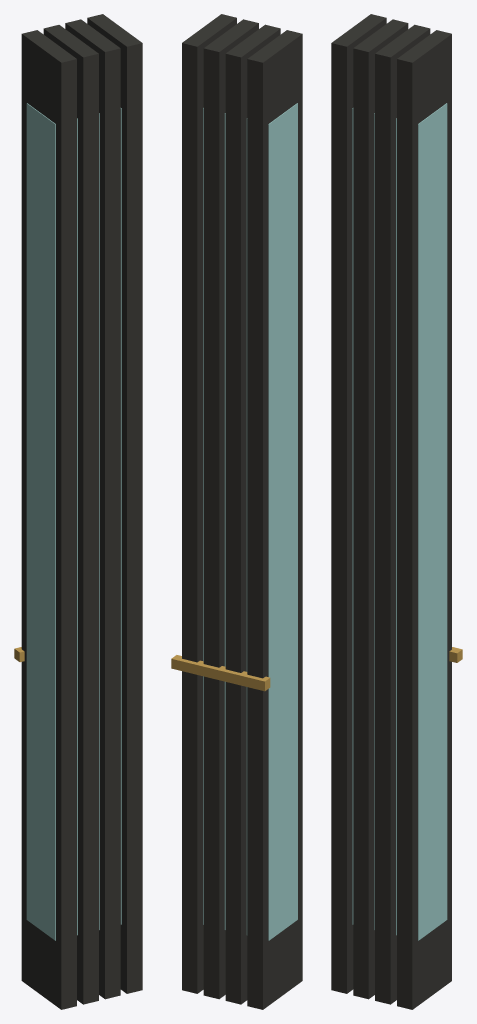
The model's file is hall_door_leaves.glb.
3 views of the same model, side by side, from view 1: azimuth 30°, elevation 25°; view 2: azimuth 150°, elevation 25°; view 3: azimuth 330°, elevation 25° (orthographic).
Visible parts, largest first — view 1: leaves; view 2: leaves; view 3: leaves.
Boxes of the visible parts, x1=… form: leaves: x1=14, y1=14, x2=142, y2=1009; leaves: x1=171, y1=14, x2=302, y2=1009; leaves: x1=331, y1=14, x2=462, y2=1009.
Size of the model in its own units: 0.3 by 2.9 by 0.235.
